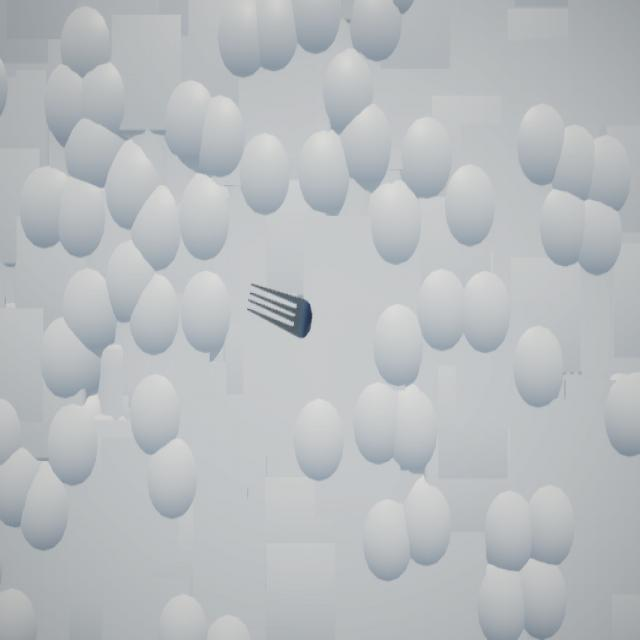top_folk: (248, 285, 314, 340)
